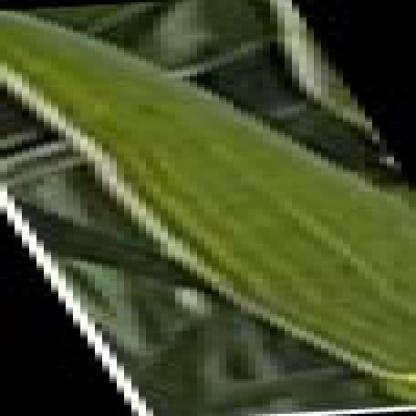Wheat Healthy: (148, 185, 378, 234), (112, 144, 300, 182), (204, 242, 404, 272), (70, 105, 235, 139), (283, 277, 415, 315), (22, 73, 171, 101), (311, 321, 415, 347), (0, 17, 47, 66)
